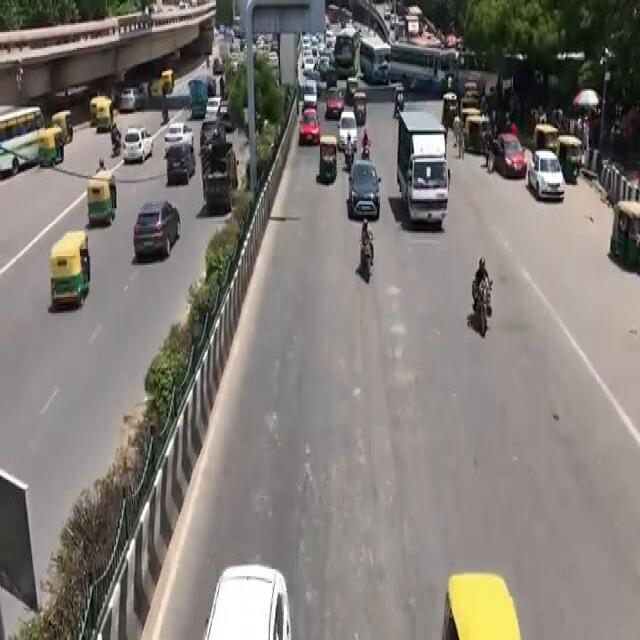three_wheeler: (303, 126, 345, 199)
